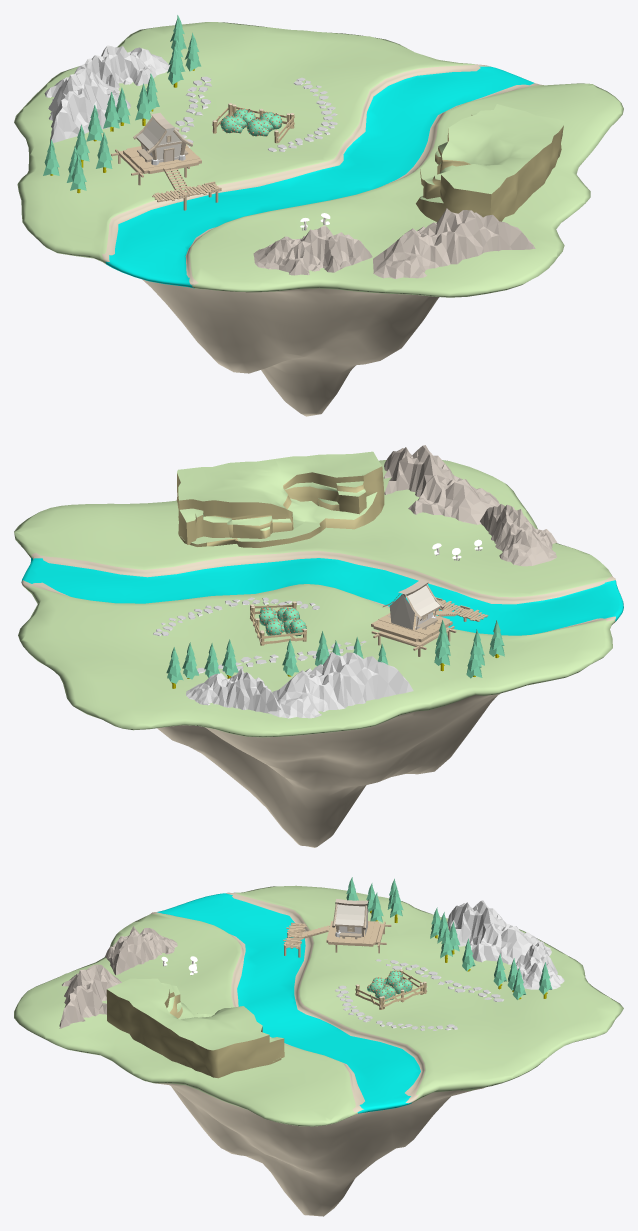
The picture shows the model from 3 angles, top to bottom: view 1: azimuth 30°, elevation 25°; view 2: azimuth 150°, elevation 25°; view 3: azimuth 270°, elevation 25°; orthographic projection. The views are drawn at different scales.
Parts seen in each view (by area): view 1: node__M_Floting_Base_1_233704, node_M_Cave_232968, node_SPW_Natures_Mount_07_001_3_232700, node_treeG_1_233062, node_SPW_Natures_Mount_07_1_2_235542, node_SPW_Natures_Mount_07_001_2_232884, node_SPW_Natures_Mount_07_1_233842, node_Prop_Walkway_Timber_Simple_02_232964, node__building28_233400, node_polySurface234_1_2_233132, node_polySurface234_1_1_235600, node_tree01_2_232622 (+1 smaller); view 2: node__M_Floting_Base_1_233704, node_M_Cave_232968, node_SPW_Natures_Mount_07_001_2_232884, node_SPW_Natures_Mount_07_001_3_232700, node_treeG_1_233062, node_SPW_Natures_Mount_07_1_2_235542, node_SPW_Natures_Mount_07_1_233842, node_Prop_Walkway_Timber_Simple_02_232964, node__building28_233400, node_polySurface234_1_2_233132, node_polySurface234_1_1_235600, node_tree01_1_2_233076; view 3: node__M_Floting_Base_1_233704, node_M_Cave_232968, node_SPW_Natures_Mount_07_001_2_232884, node_treeG_1_233062, node_SPW_Natures_Mount_07_001_3_232700, node_SPW_Natures_Mount_07_1_2_235542, node_Prop_Walkway_Timber_Simple_02_232964, node_SPW_Natures_Mount_07_1_233842, node__building28_233400, node_polySurface234_1_1_235600, node_polySurface234_1_2_233132.
Part boxes in pixels (box(x1,y1,x2,y2)): node__M_Floting_Base_1_233704: box(14, 22, 623, 416); node_M_Cave_232968: box(416, 104, 564, 221); node_SPW_Natures_Mount_07_001_3_232700: box(373, 208, 535, 278); node_treeG_1_233062: box(43, 15, 201, 193); node_SPW_Natures_Mount_07_1_2_235542: box(253, 225, 372, 275); node_SPW_Natures_Mount_07_001_2_232884: box(44, 68, 130, 142); node_SPW_Natures_Mount_07_1_233842: box(74, 45, 169, 87); node_Prop_Walkway_Timber_Simple_02_232964: box(111, 144, 221, 210); node__building28_233400: box(133, 112, 192, 165); node_polySurface234_1_2_233132: box(186, 76, 337, 120); node_polySurface234_1_1_235600: box(175, 117, 337, 151); node_tree01_2_232622: box(246, 111, 282, 136); node__M_Floting_Base_1_233704: box(14, 460, 623, 847); node_M_Cave_232968: box(176, 451, 384, 547); node_SPW_Natures_Mount_07_001_2_232884: box(268, 651, 413, 718); node_SPW_Natures_Mount_07_001_3_232700: box(384, 445, 499, 524); node_treeG_1_233062: box(166, 619, 504, 688); node_SPW_Natures_Mount_07_1_2_235542: box(480, 504, 557, 566); node_SPW_Natures_Mount_07_1_233842: box(186, 668, 280, 713); node_Prop_Walkway_Timber_Simple_02_232964: box(371, 597, 488, 656); node__building28_233400: box(382, 580, 444, 630); node_polySurface234_1_2_233132: box(153, 605, 278, 673); node_polySurface234_1_1_235600: box(225, 597, 366, 660); node_tree01_1_2_233076: box(265, 617, 306, 636); node__M_Floting_Base_1_233704: box(14, 885, 623, 1216); node_M_Cave_232968: box(106, 978, 284, 1078); node_SPW_Natures_Mount_07_001_2_232884: box(447, 900, 551, 965); node_treeG_1_233062: box(346, 877, 552, 999); node_SPW_Natures_Mount_07_001_3_232700: box(59, 964, 121, 1028); node_SPW_Natures_Mount_07_1_2_235542: box(105, 926, 177, 975); node_Prop_Walkway_Timber_Simple_02_232964: box(283, 921, 391, 957); node_SPW_Natures_Mount_07_1_233842: box(516, 941, 564, 990); node__building28_233400: box(332, 899, 369, 939); node_polySurface234_1_1_235600: box(335, 959, 441, 1022); node_polySurface234_1_2_233132: box(376, 980, 503, 1030).
Size of what is drawn, in the model's own units: 94.07 by 48.07 by 101.
